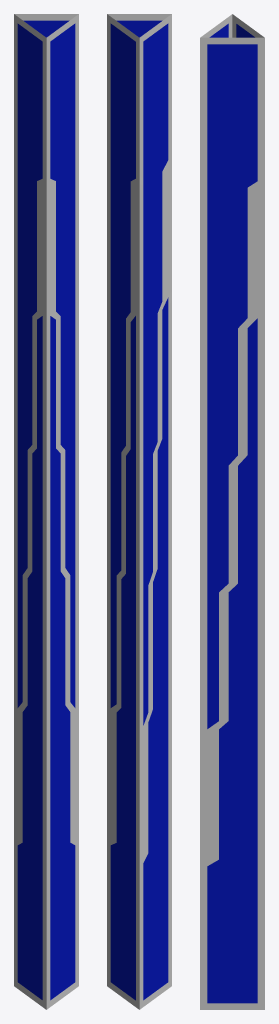
The model's file is stage_pole.gltf.
3 renders of one model, left to right at view 1: azimuth 90°, elevation 25°; view 2: azimuth 210°, elevation 25°; view 3: azimuth 270°, elevation 25°, orthographic.
Visible parts, largest first — view 1: Cube; view 2: Cube; view 3: Cube.
Boxes of the visible parts, left/top/right/bottom form: Cube: left=14, top=14, right=78, bottom=1009; Cube: left=107, top=14, right=171, bottom=1009; Cube: left=200, top=14, right=264, bottom=1009.
Bounding box in the file's own units: 0.2696 × 5.15 × 0.3114.
